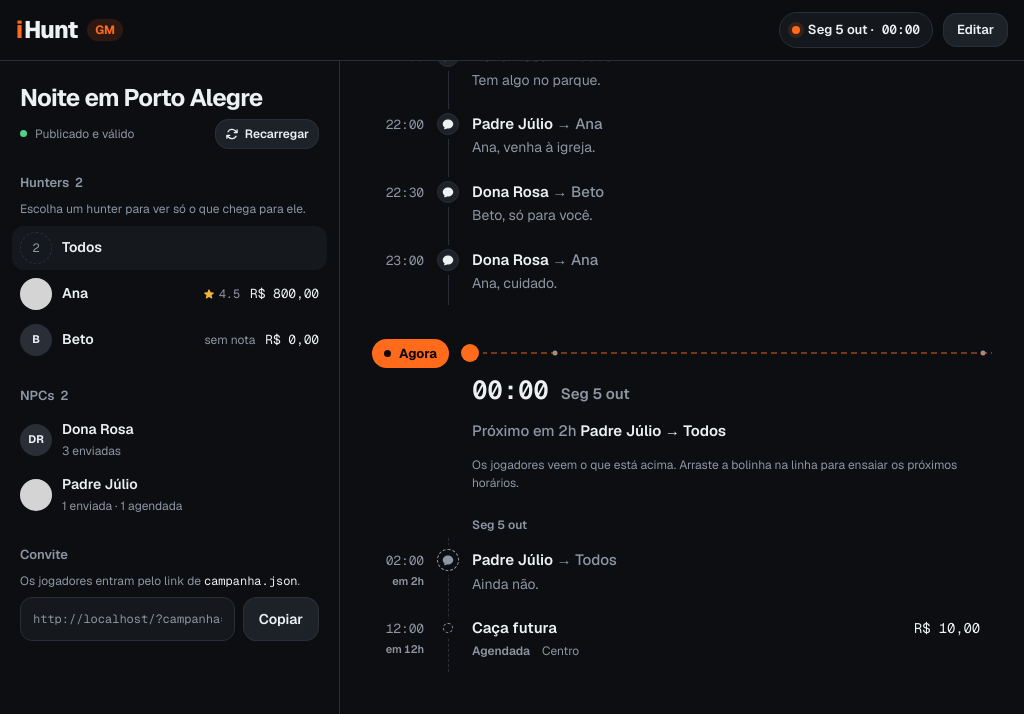
Test: GM view › shows what one hunter sees, marking the missions near them
(page scrolled)
Click the button "B Beto sem nota R$ 0,00".
click(36, 340)  # box [12,318,327,362]
(page scrolled)
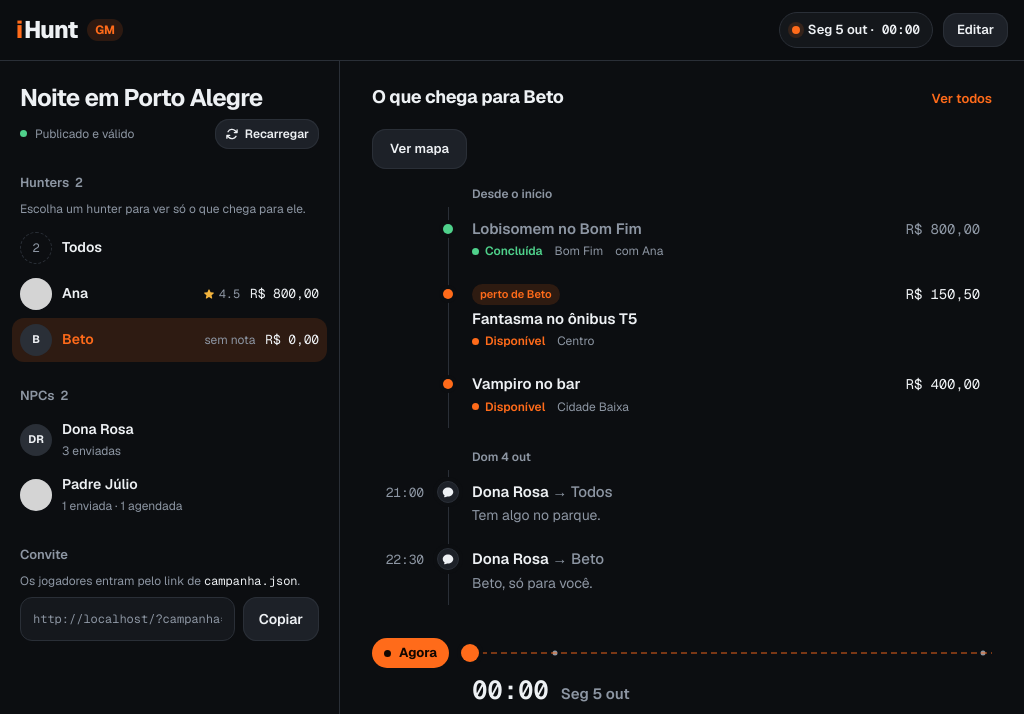
Now the heading "O que chega para Beto" is shown, box [372,87,564,108]
Now the button "Ana, venha à igreja." is gone
Now the text "Vampiro no bar" is shown, box [472,374,580,393]
Click the button "Ver todos".
click(962, 99)  # box [932,85,992,112]
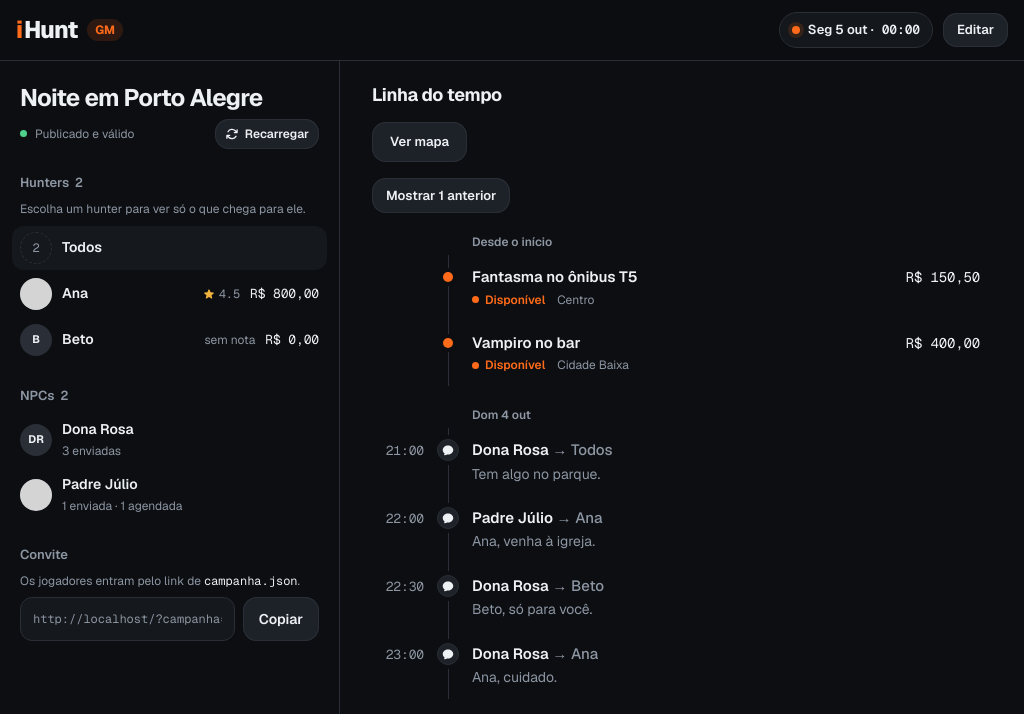
Now the text "Ana, venha à igreja." is shown, box [472,532,595,550]
